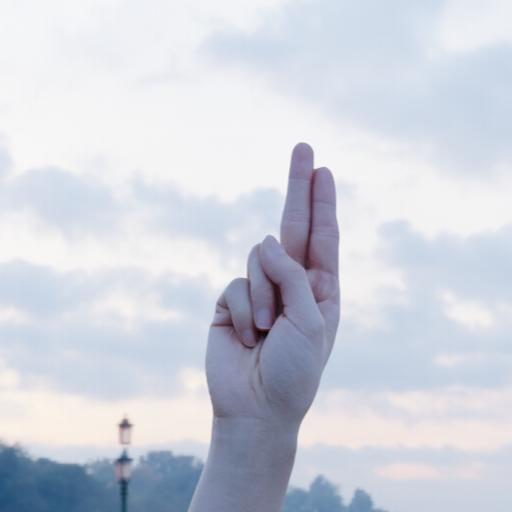U: (202, 138, 344, 419)
